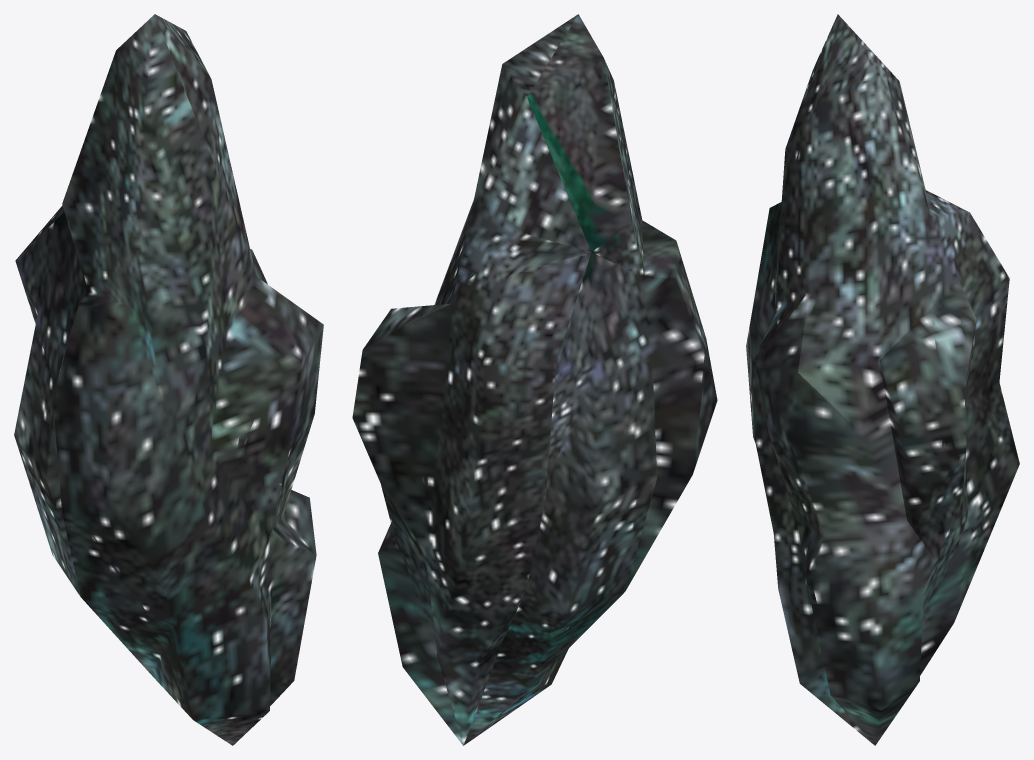
Rendered from 5st_cliff_hom04.glb.
3 renders of one model, left to right at view 1: azimuth 30°, elevation 25°; view 2: azimuth 150°, elevation 25°; view 3: azimuth 270°, elevation 25°, orthographic. The views are drawn at different scales.
Visible parts, largest first — view 1: cliff_hom04; view 2: cliff_hom04; view 3: cliff_hom04.
Part boxes in pixels (x1,y1,x2,y2): cliff_hom04: (14,14,323,745); cliff_hom04: (352,14,717,745); cliff_hom04: (746,14,1019,745).
Size of the model in its own units: 7.24 by 18.38 by 6.62.
Materials: 1 (1 with a texture image).
